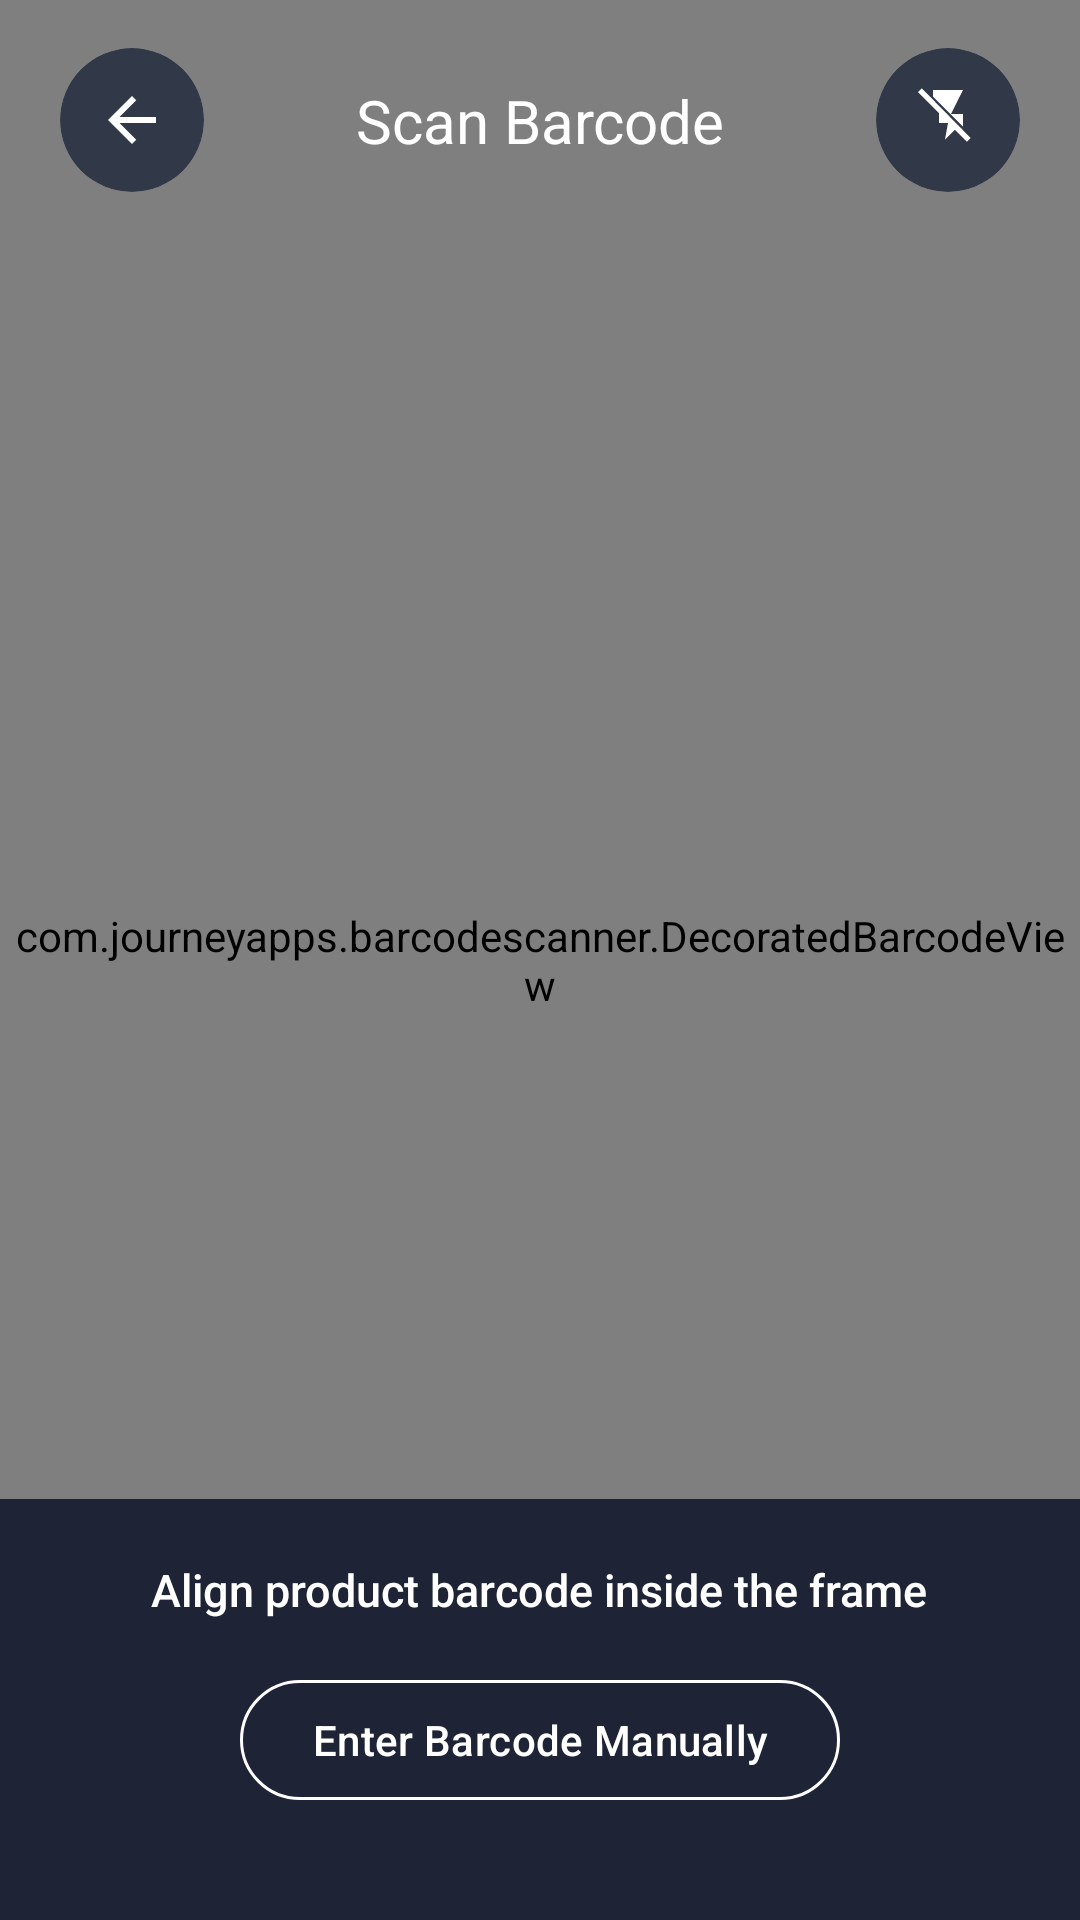

Named icons in this screenshot (1080px×1920px) and their centers, (x,y):
Back: (132,120)
Flash Toggle: (944,115)
